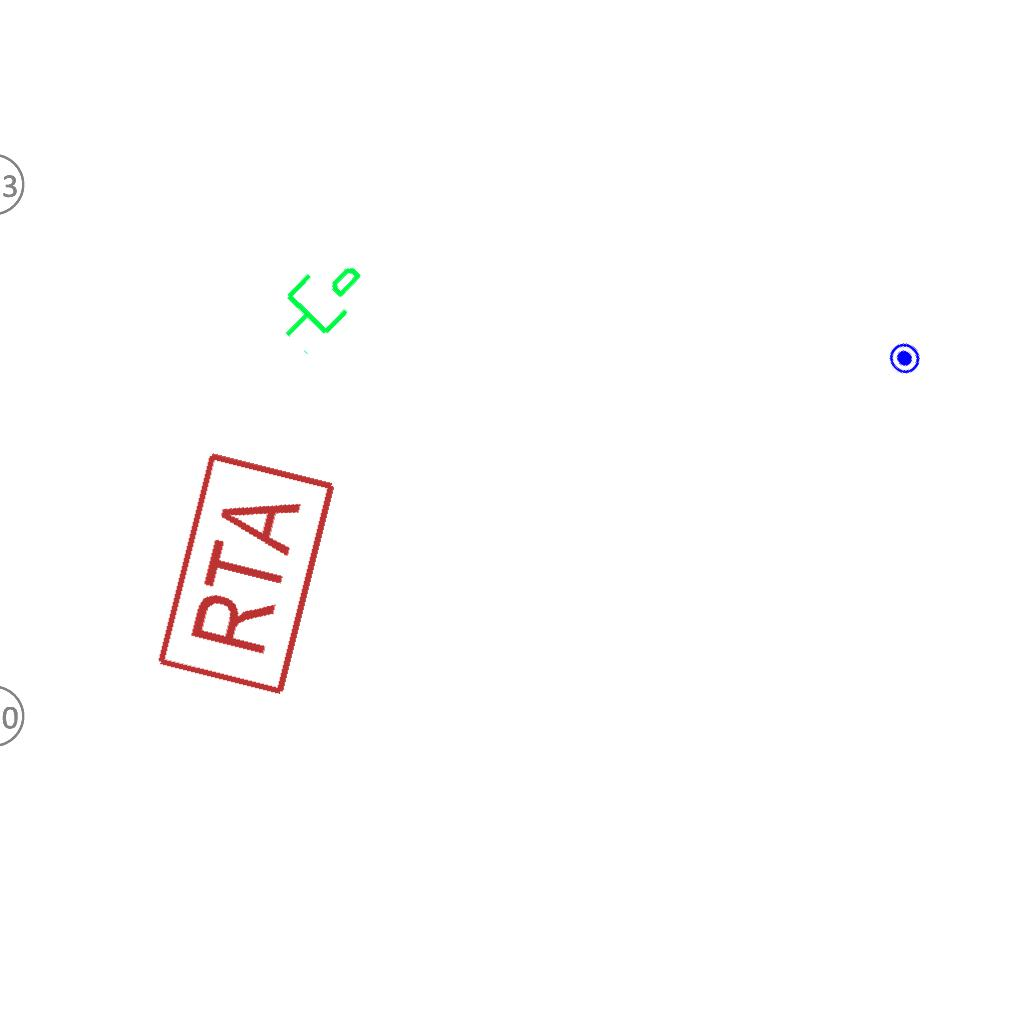Datenanschluss_einfach: (258, 240, 379, 360)
Ruf-und_Abstelltaster: (151, 448, 341, 704)
Taster: (882, 334, 929, 381)
